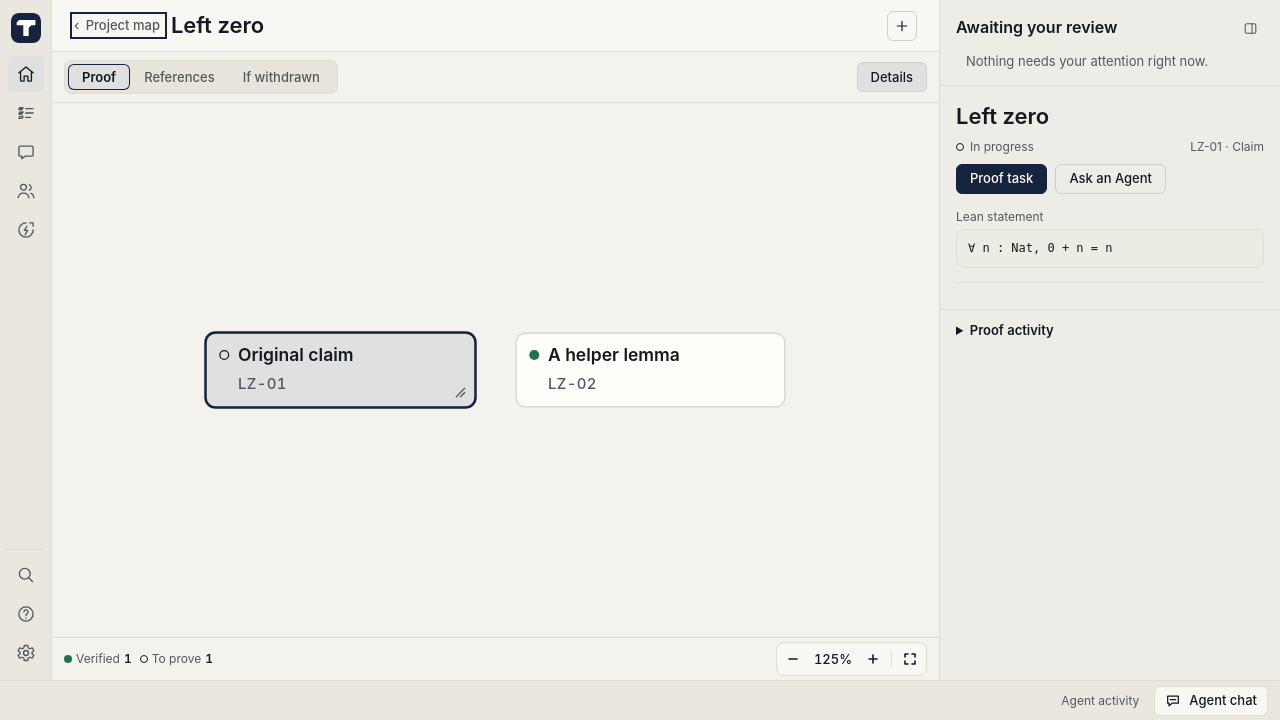
App › shows the exact blocker and offers no authorization for an unconfirmed proof scope
Click the button "Proof task" at (1002, 179), box [956,164,1047,194]
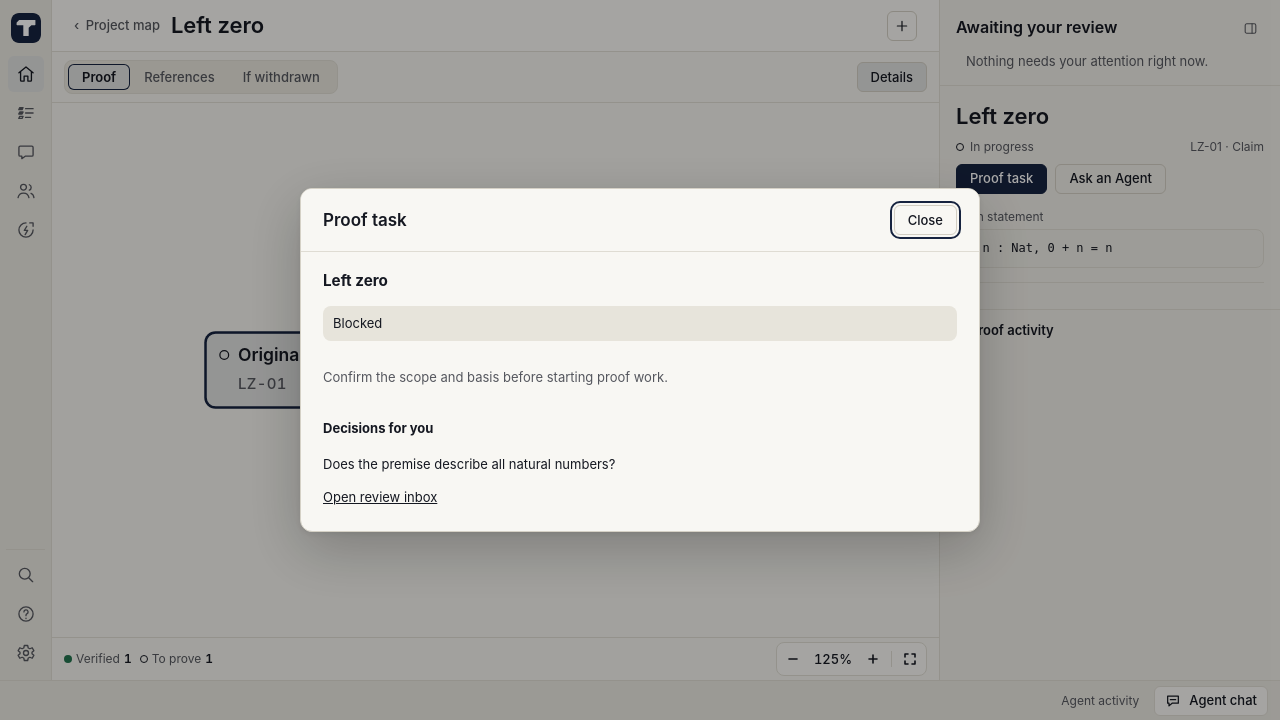
expect the text "Confirm the scope and basis before starting proof work." is shown: met, box [323,369,668,385]
expect the list item "Does the premise describe all natural numbers?" is shown: met, box [323,456,615,472]
